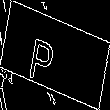P_N: (40, 26, 70, 84)
